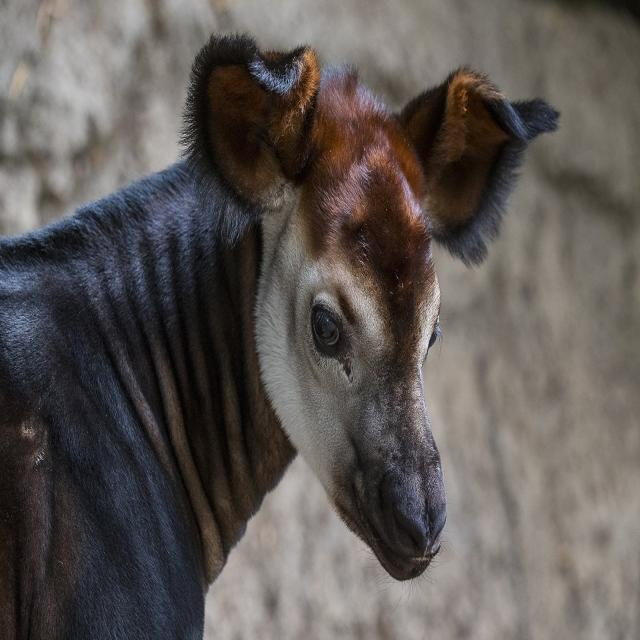Okapi: (0, 21, 574, 640)
